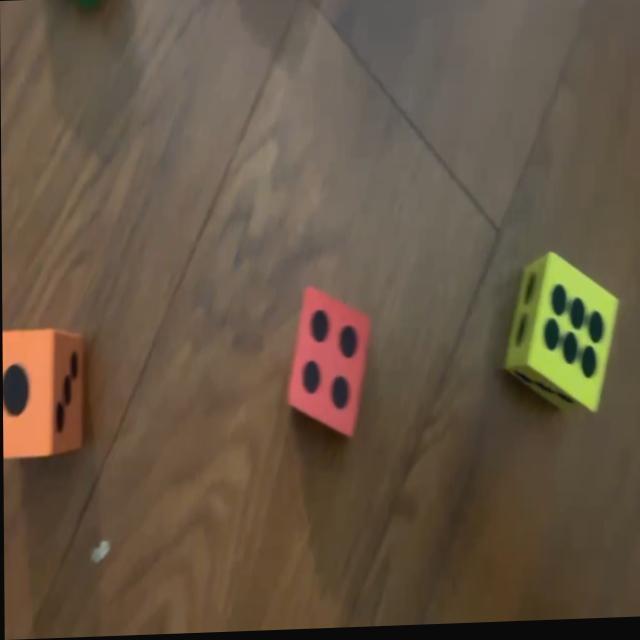red_block: (287, 287, 370, 437)
